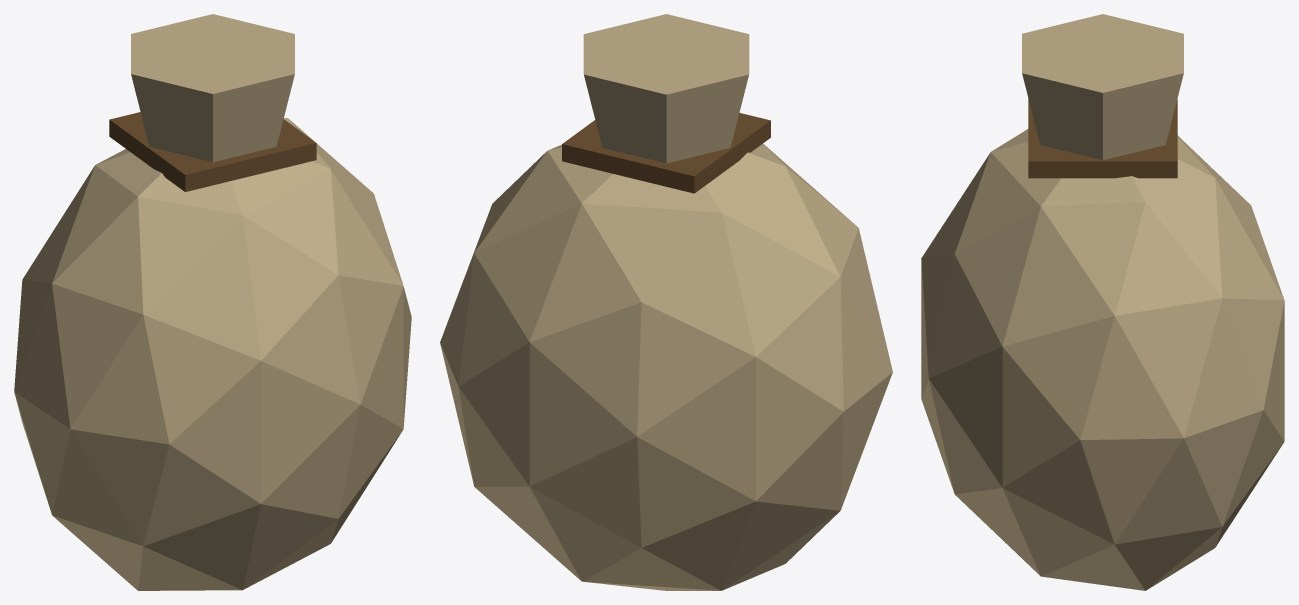
File: sack.glb
The picture shows the model from 3 angles, left to right: view 1: azimuth 30°, elevation 25°; view 2: azimuth 150°, elevation 25°; view 3: azimuth 270°, elevation 25°; orthographic projection. The views are drawn at different scales.
Parts seen in each view (by area): view 1: props/sack; view 2: props/sack; view 3: props/sack.
Part boxes in pixels (box(x1,y1,x2,y2)): props/sack: box(14, 14, 411, 590); props/sack: box(440, 14, 892, 590); props/sack: box(921, 14, 1284, 590).
Bounding box in the file's own units: 0.4567 × 0.62 × 0.3885.
